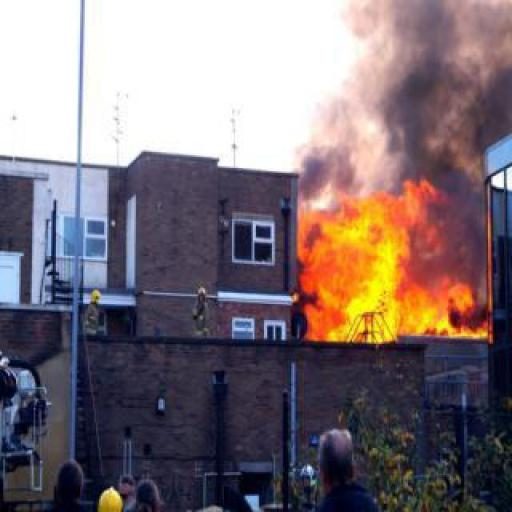smoke: (294, 5, 510, 203), (299, 192, 448, 333), (451, 300, 491, 334)
